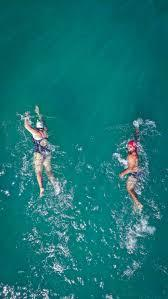Person: (21, 104, 62, 200), (115, 119, 151, 218)
